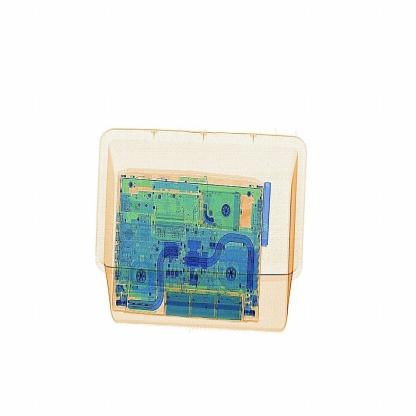pliers: (258, 172, 278, 252)
